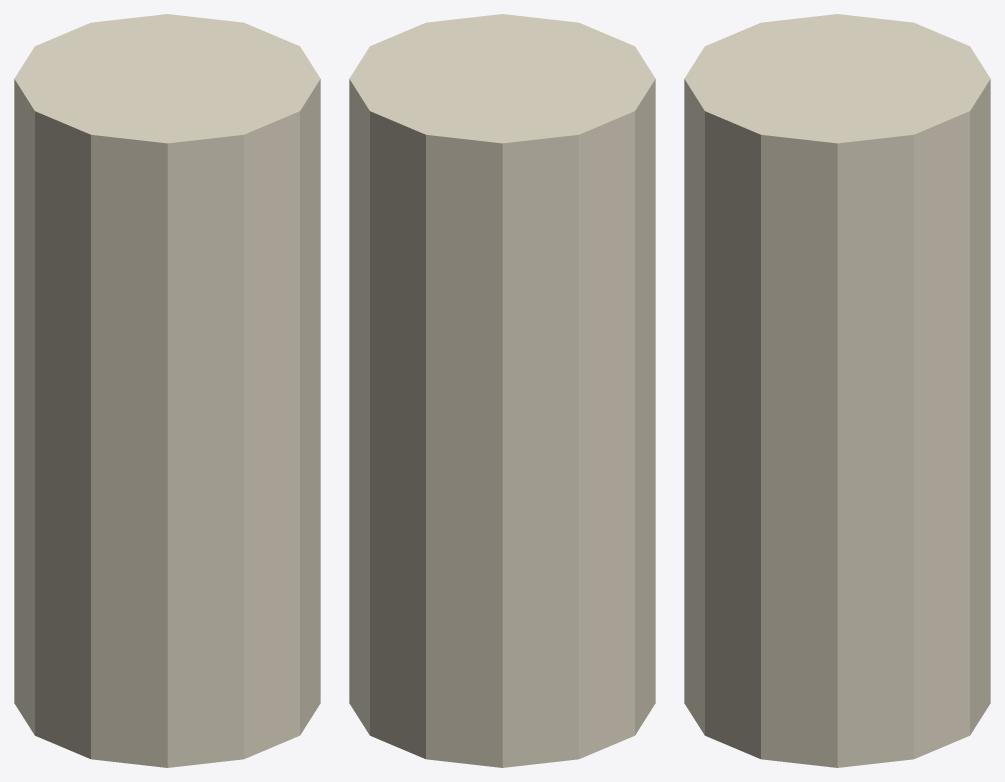
The model's file is story-mika.glb.
3 views of the same model, side by side, from view 1: azimuth 30°, elevation 25°; view 2: azimuth 150°, elevation 25°; view 3: azimuth 270°, elevation 25° (orthographic).
Parts seen in each view (by area): view 1: cup; view 2: cup; view 3: cup.
Boxes of the visible parts, box(x1,y1,x2,y2) form: cup: box(14, 14, 320, 767); cup: box(349, 14, 655, 767); cup: box(684, 14, 990, 767).
Bounding box in the file's own units: 0.04 × 0.09 × 0.04.
